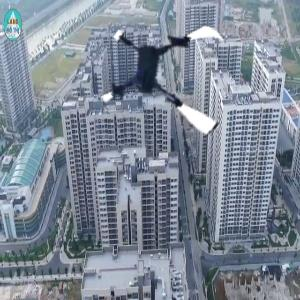drone: (102, 10, 239, 147)
